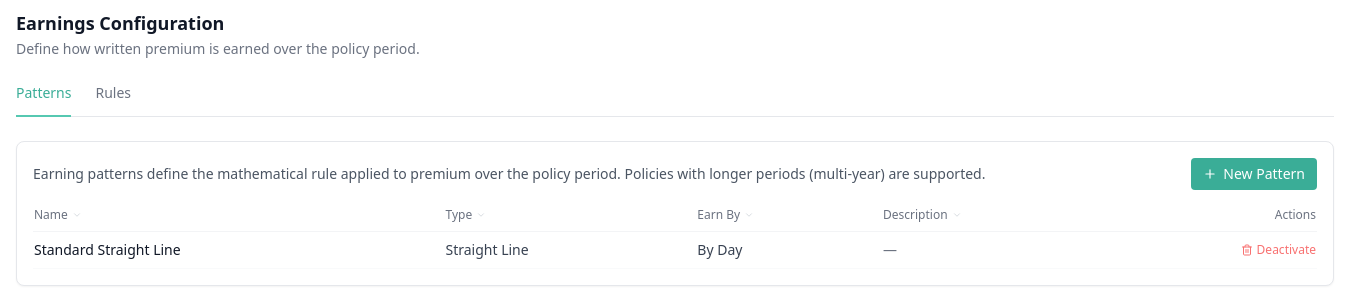
Test: T-EARN-R07: Rules tab shows rules list › shows rules after switching to Rules tab
The width and height of the screenshot is (1351, 303).
Expected: the text "Standard Straight Line" is shown, [33, 232, 444, 268]
Click the button "rules".
click(113, 100)  # box [96, 83, 131, 117]
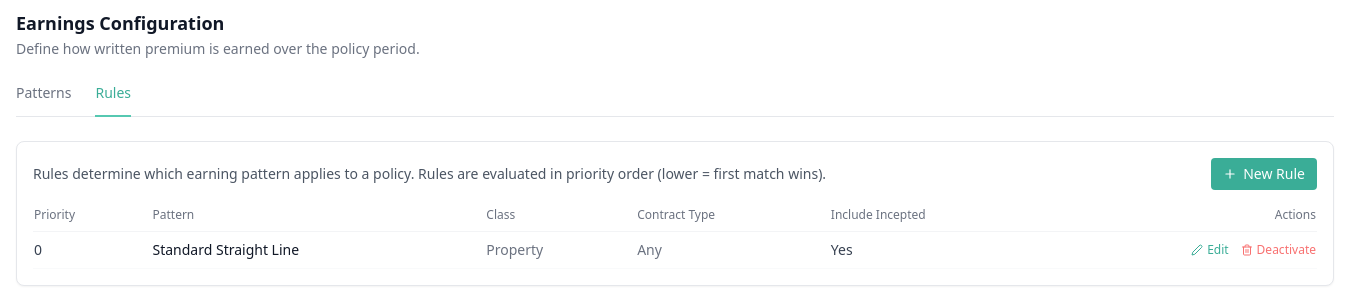
Expected: the text "Standard Straight Line" is shown, [152, 232, 485, 268]
Expected: the text "Property" is shown, [485, 232, 636, 268]
Expected: the text "0" is shown, [33, 232, 152, 268]
